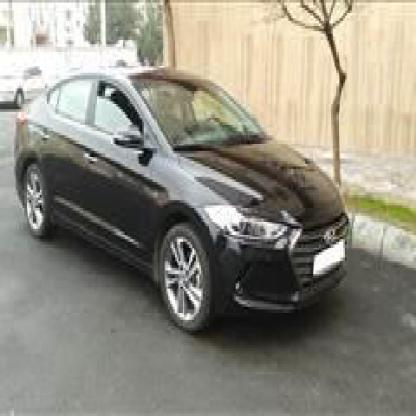car: (19, 44, 342, 351), (0, 57, 49, 114)
